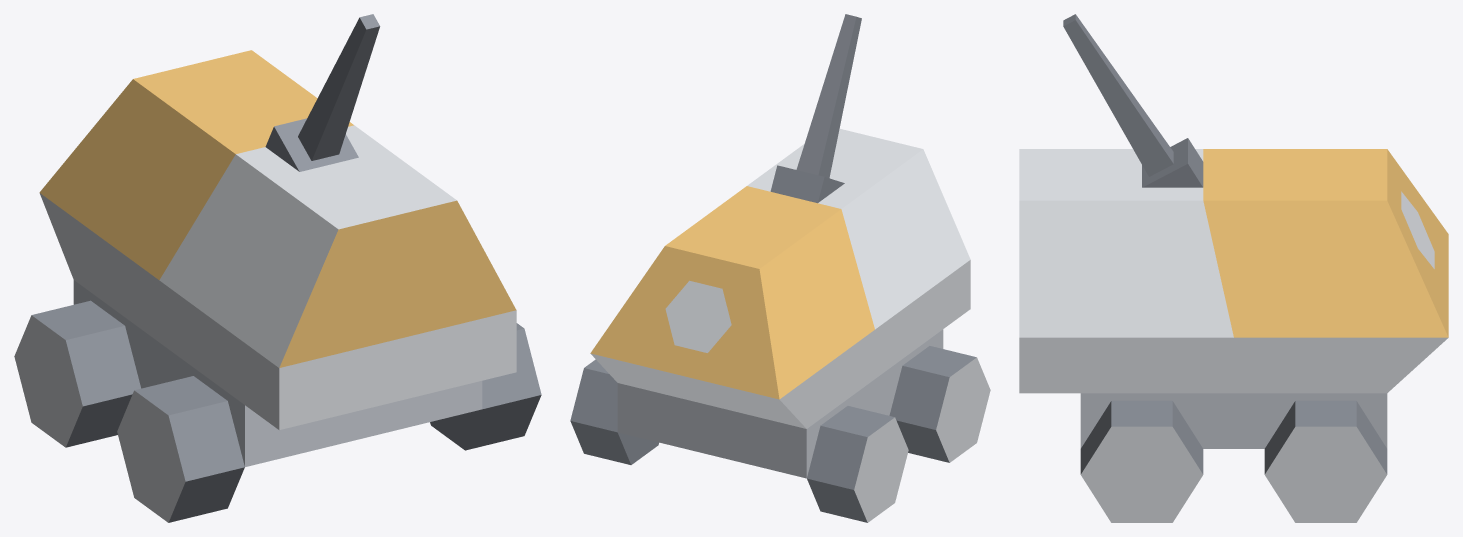
Rendered from rover.glb.
The picture shows the model from 3 angles, left to right: view 1: azimuth 30°, elevation 25°; view 2: azimuth 150°, elevation 25°; view 3: azimuth 270°, elevation 25°; orthographic projection. The views are drawn at different scales.
Visible parts, largest first — view 1: rover; view 2: rover; view 3: rover.
Boxes of the visible parts, <box> form: rover: <box>14,14,541,522</box>; rover: <box>570,14,990,522</box>; rover: <box>1019,14,1448,522</box>.
Bounding box in the file's own units: 0.3 × 0.3853 × 0.35.
